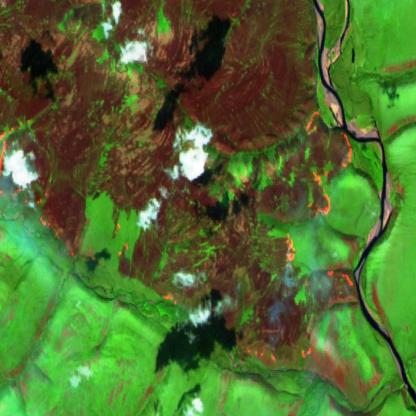fire: (219, 105, 364, 379), (0, 114, 78, 276)
